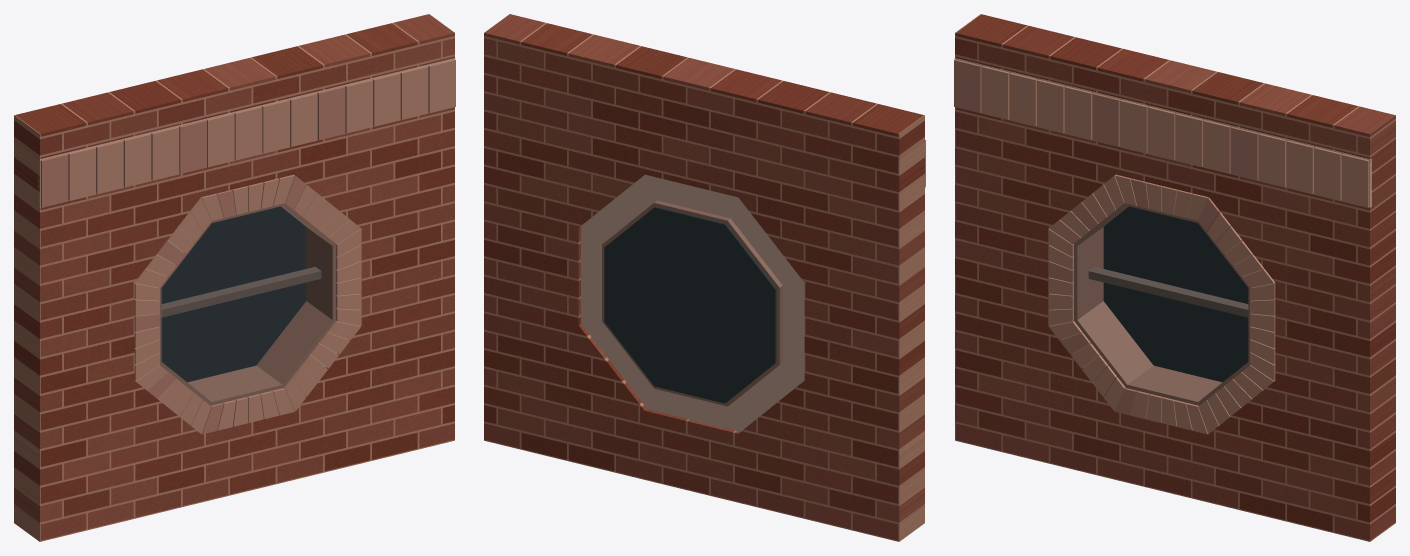
The model's file is wuyi-154-octagonal-brick-light-far.glb.
The picture shows the model from 3 angles, left to right: view 1: azimuth 30°, elevation 25°; view 2: azimuth 150°, elevation 25°; view 3: azimuth 330°, elevation 25°; orthographic projection.
Parts seen in each view (by area): view 1: 武夷路154号住宅山墙八角砖窗与横档; view 2: 武夷路154号住宅山墙八角砖窗与横档; view 3: 武夷路154号住宅山墙八角砖窗与横档.
Boxes of the visible parts, left/top/right/bottom form: 武夷路154号住宅山墙八角砖窗与横档: left=14, top=14, right=455, bottom=541; 武夷路154号住宅山墙八角砖窗与横档: left=484, top=14, right=925, bottom=541; 武夷路154号住宅山墙八角砖窗与横档: left=954, top=14, right=1395, bottom=541.
Bounding box in the file's own units: 2.6 × 2.44 × 0.318.
7 materials, 1 textured.
